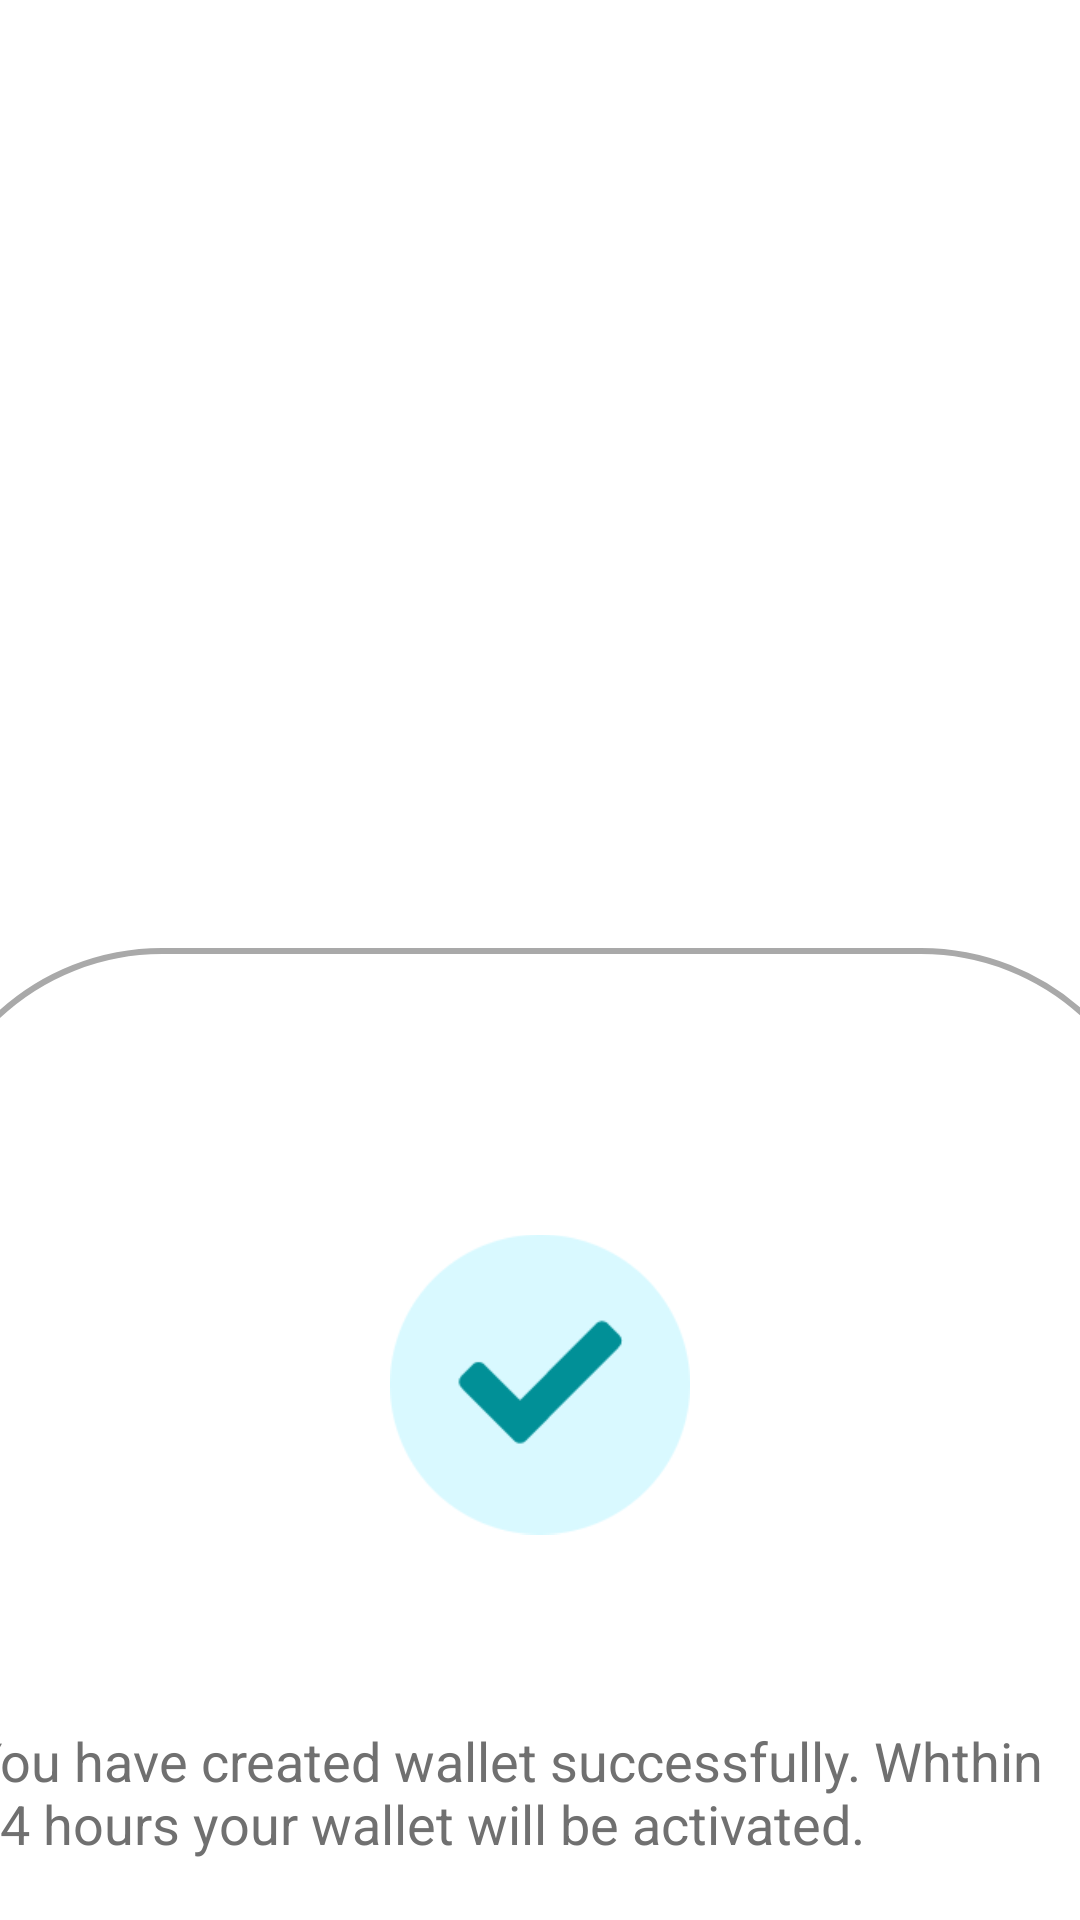

Icons on this 1080×1920 Android screen, each with the point to tap as (x,y):
verified: (540,1385)
